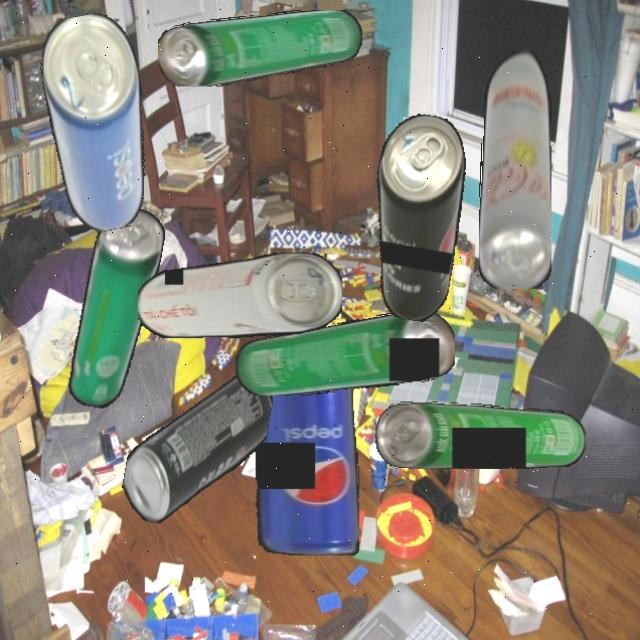debris: (33, 8, 164, 237), (117, 356, 276, 538), (354, 109, 477, 325), (63, 202, 168, 414), (253, 372, 359, 556), (234, 312, 455, 395), (478, 49, 551, 289), (137, 253, 342, 338), (158, 9, 362, 87), (375, 400, 586, 469)
